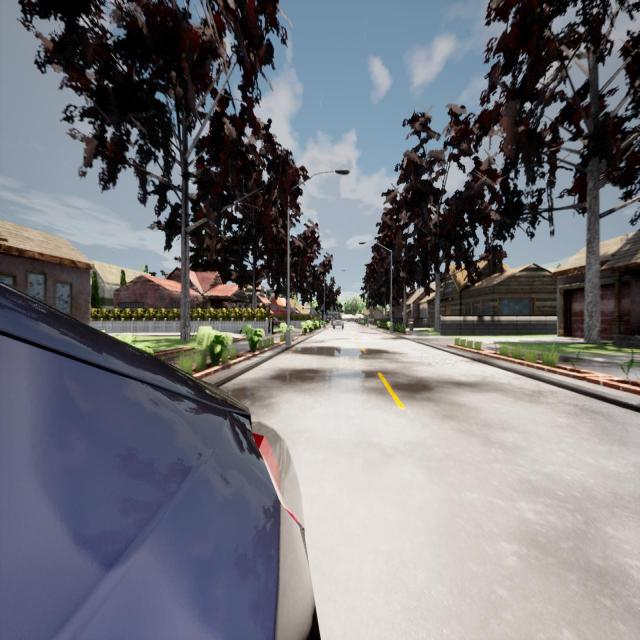Vehicle: (0, 285, 315, 638), (332, 315, 344, 330)
